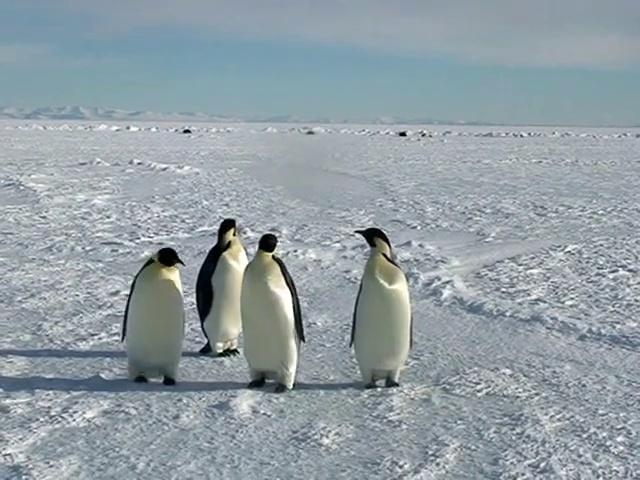animal: (350, 227, 411, 388)
